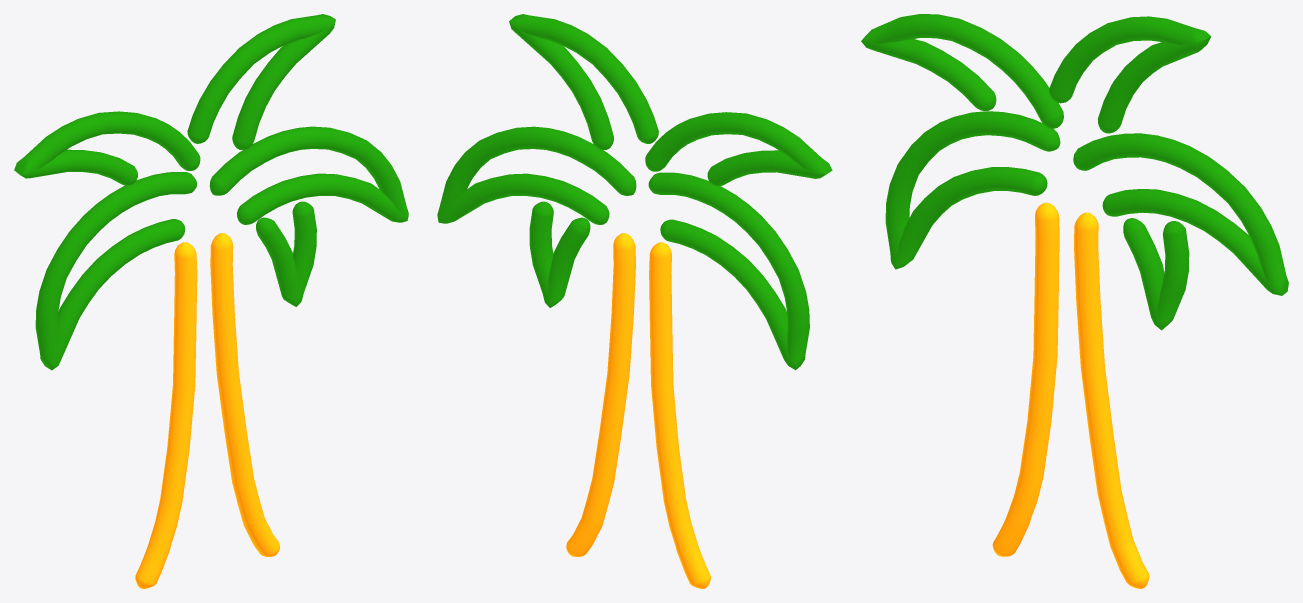
The model's file is neon_palm.glb.
3 renders of one model, left to right at view 1: azimuth 30°, elevation 25°; view 2: azimuth 150°, elevation 25°; view 3: azimuth 330°, elevation 25°, orthographic. The views are drawn at different scales.
Parts seen in each view (by area): view 1: palm_tree; view 2: palm_tree; view 3: palm_tree.
Part boxes in pixels (box(x1,y1,x2,y2)): palm_tree: box(14, 14, 408, 588); palm_tree: box(437, 14, 832, 588); palm_tree: box(861, 14, 1288, 588).
Bounding box in the file's own units: 2.3 × 3 × 0.1183.
2 materials, 2 textured.
